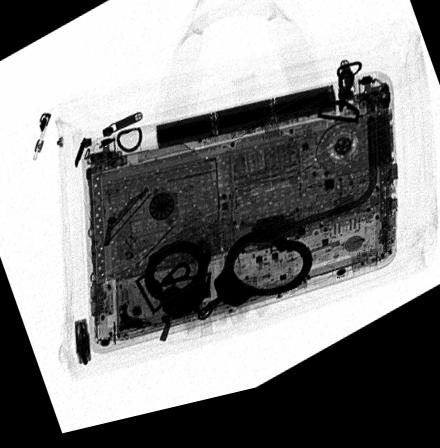HandCuffs: (138, 238, 314, 334)
